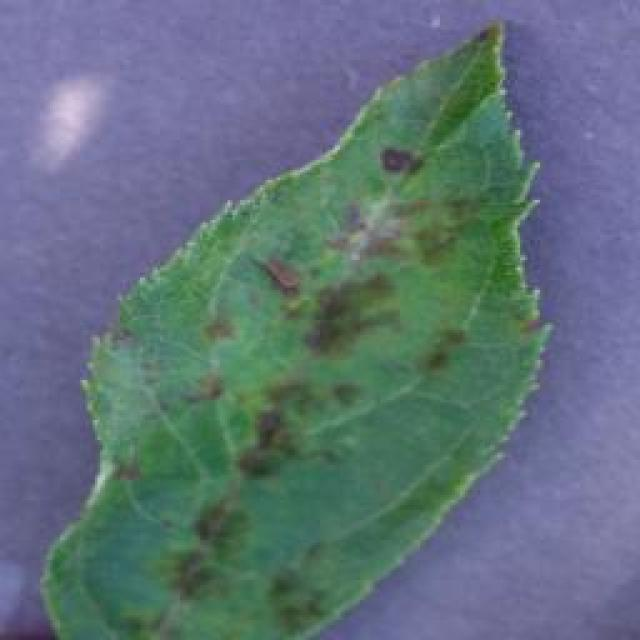apple scab disease: (37, 18, 555, 638)
